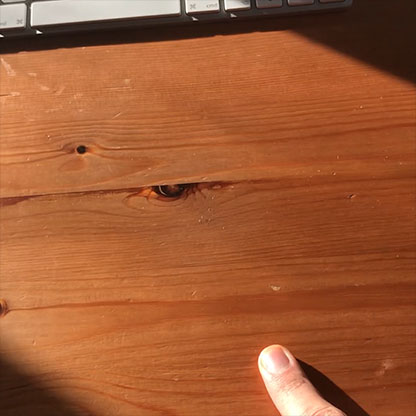fingertip: (251, 340, 304, 383)
